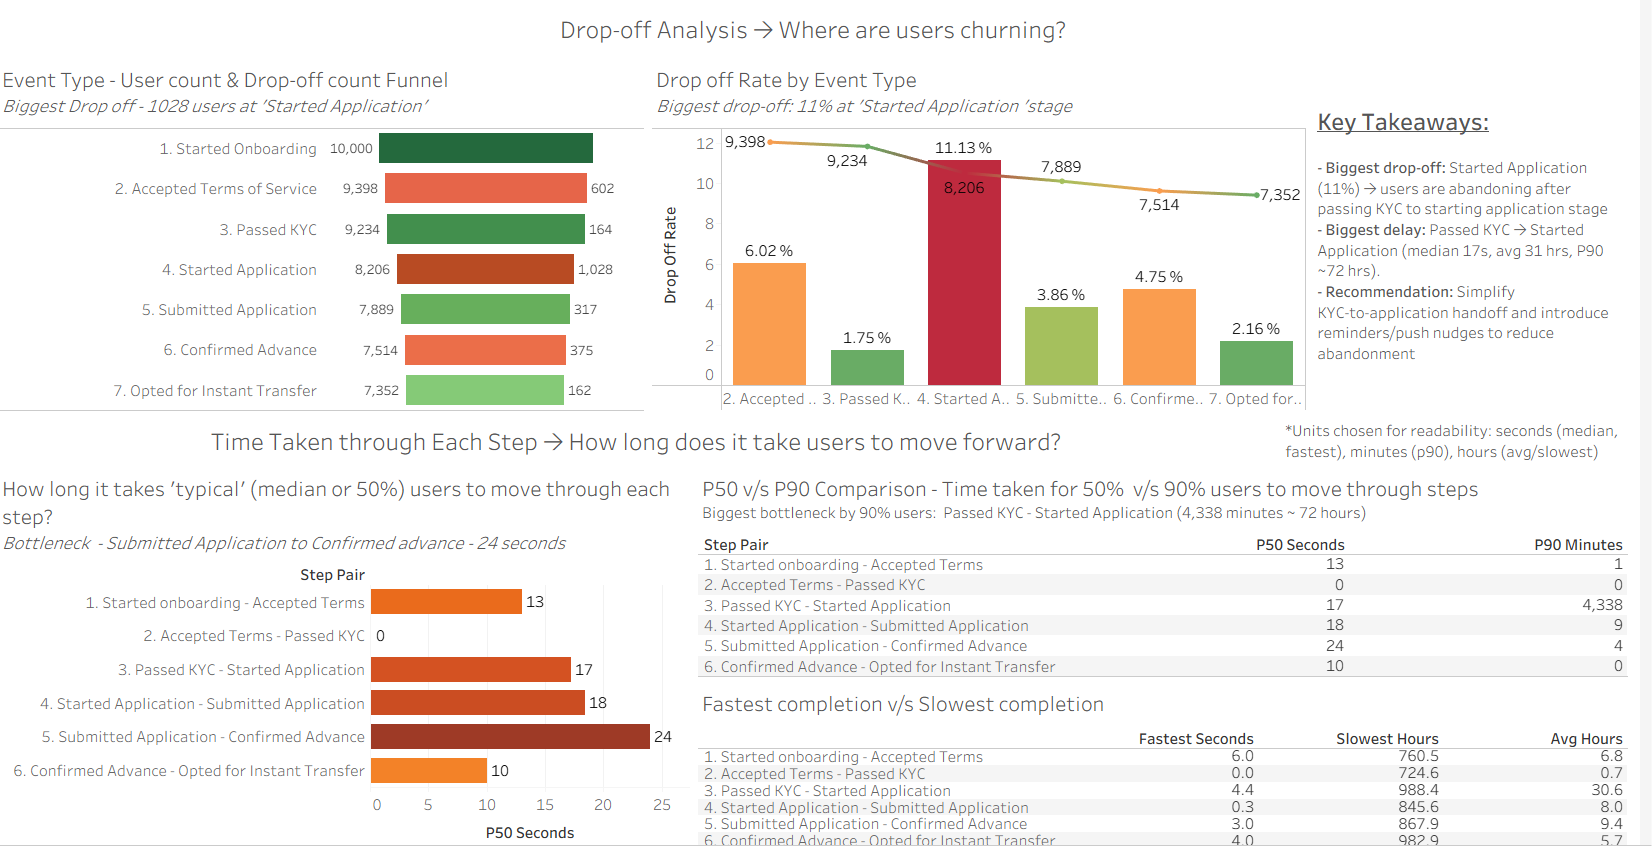

What the dashboard file says about the page in this screenshot:
{"tool":"tableau","page":{"name":"Final Dashboard","canvas":[1654,869],"ordinal":0},"visuals":[{"type":"text","box":[8,8,1638,56]},{"type":"worksheet","title":"DropOff Funnel","mark":"Automatic","rows":["event_type"],"cols":["Count Of Users (copy)_705094872674836480","count_of_users"],"box":[8,64,654,358]},{"type":"worksheet","title":"Drop Off Rate Bar + Line","mark":"Bar","rows":["drop_off_rate","count_of_users"],"cols":["event_type"],"box":[662,64,661.7,358]},{"type":"text","box":[1323.7,64,322.3,358]},{"type":"text","box":[8,422,1284,51]},{"type":"text","box":[1292,422,354,51]},{"type":"worksheet","title":"Median Time Taken","mark":"Automatic","rows":["step_pair"],"cols":["p50_seconds"],"box":[8,473,700,388]},{"type":"worksheet","title":"P90 Time Taken","mark":"Automatic","rows":["step_pair"],"box":[708,473,938,215]},{"type":"worksheet","title":"Fastest completion v/s slowest","mark":"Automatic","rows":["step_pair"],"box":[708,688,938,173]}]}

Visuals, with their boxes in screenshot pixels (x1, y1, x2, y2), scaled from the page's 1654x869 canvas onto the 1652x846 screenshot:
text: 8, 8, 1644, 62
"DropOff Funnel" worksheet: 8, 62, 661, 411
"Drop Off Rate Bar + Line" worksheet (Bar marks): 661, 62, 1322, 411
text: 1322, 62, 1644, 411
text: 8, 411, 1290, 460
text: 1290, 411, 1644, 460
"Median Time Taken" worksheet: 8, 460, 707, 838
"P90 Time Taken" worksheet: 707, 460, 1644, 670
"Fastest completion v/s slowest" worksheet: 707, 670, 1644, 838
